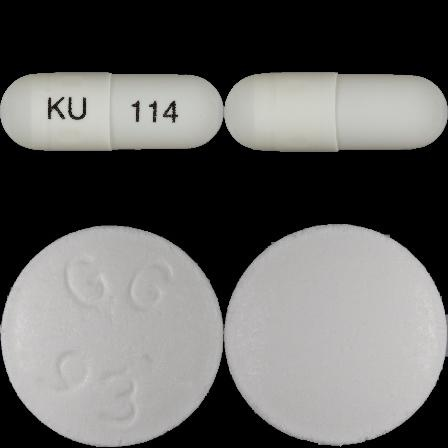21695-097: (0, 0, 224, 224)
